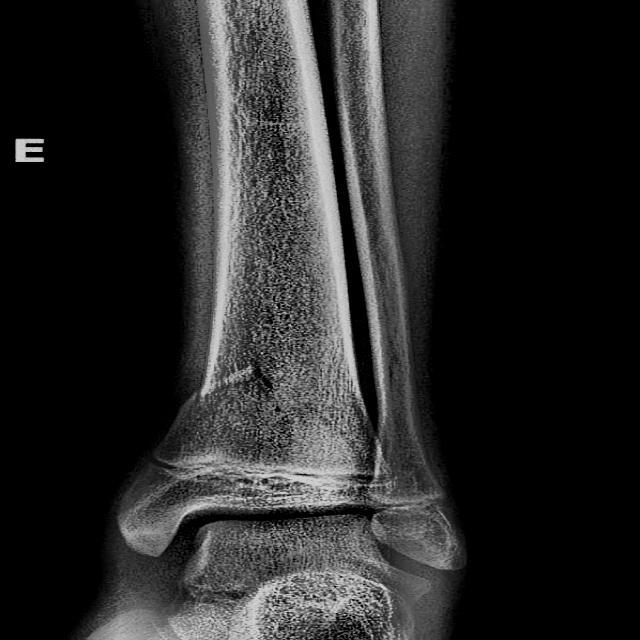fracture: (184, 362, 277, 404), (308, 412, 367, 467)
